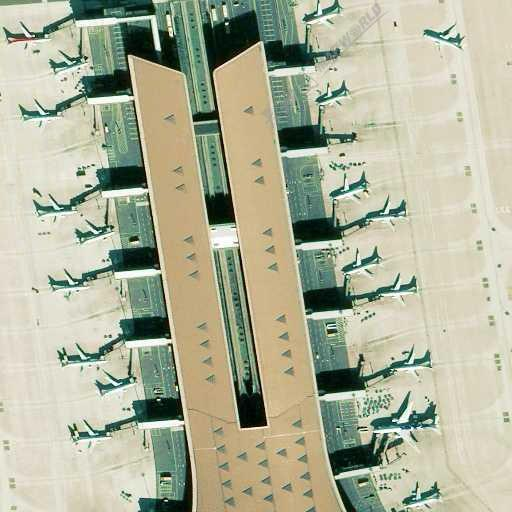aircraft: (370, 389, 445, 456), (65, 420, 116, 463), (385, 345, 436, 387), (2, 18, 56, 57), (55, 343, 110, 378), (363, 194, 414, 230), (421, 20, 468, 58), (45, 269, 94, 304), (91, 369, 141, 403), (377, 273, 425, 307), (17, 98, 63, 133), (328, 172, 373, 207), (340, 247, 385, 282), (399, 479, 446, 512), (30, 194, 81, 224), (48, 49, 91, 83), (75, 218, 117, 248), (303, 3, 347, 31), (317, 80, 355, 112)
